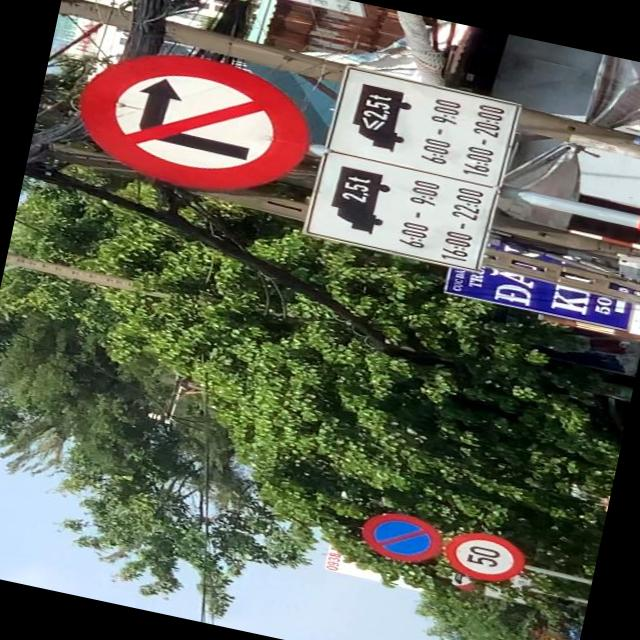P-123b: (67, 36, 319, 211)
P-127: (440, 523, 528, 587)
P-131a: (356, 506, 446, 567)
